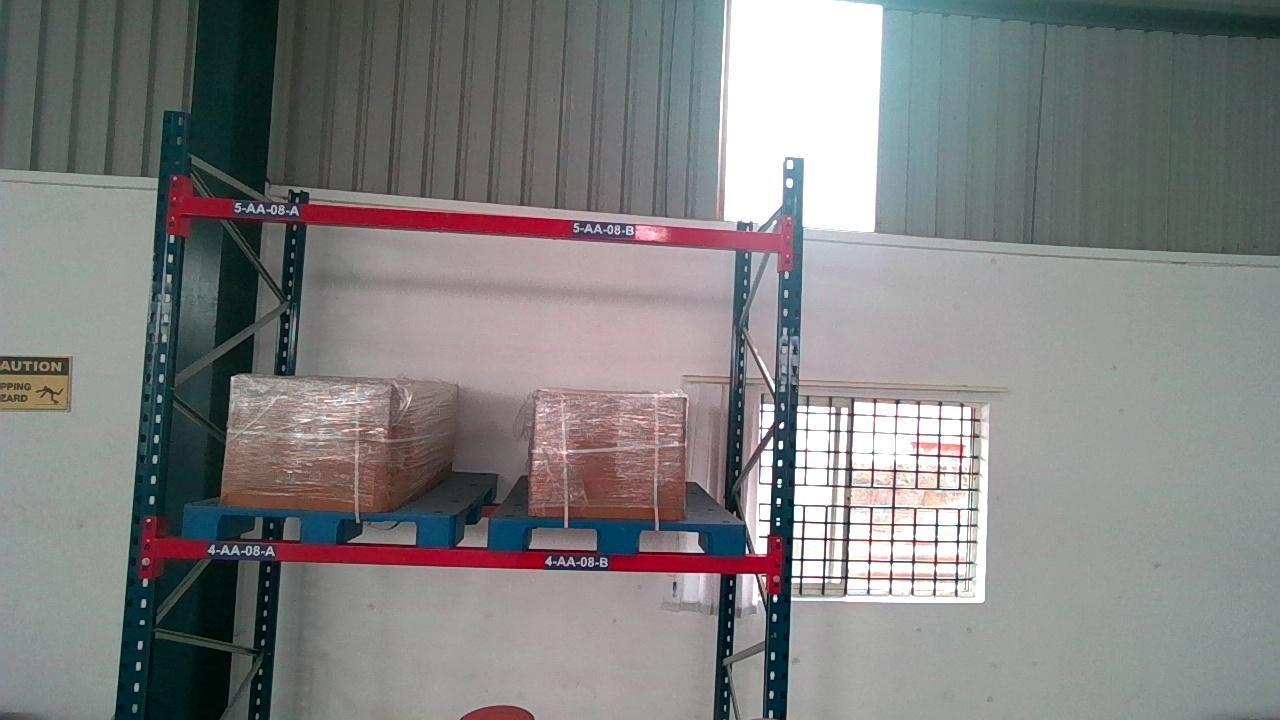h_rack: (181, 193, 786, 252), (155, 540, 773, 574)
small_pallet: (188, 509, 453, 544), (490, 519, 748, 553)
